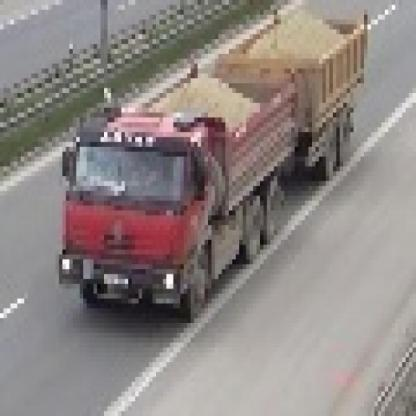truck: (59, 1, 365, 319)
